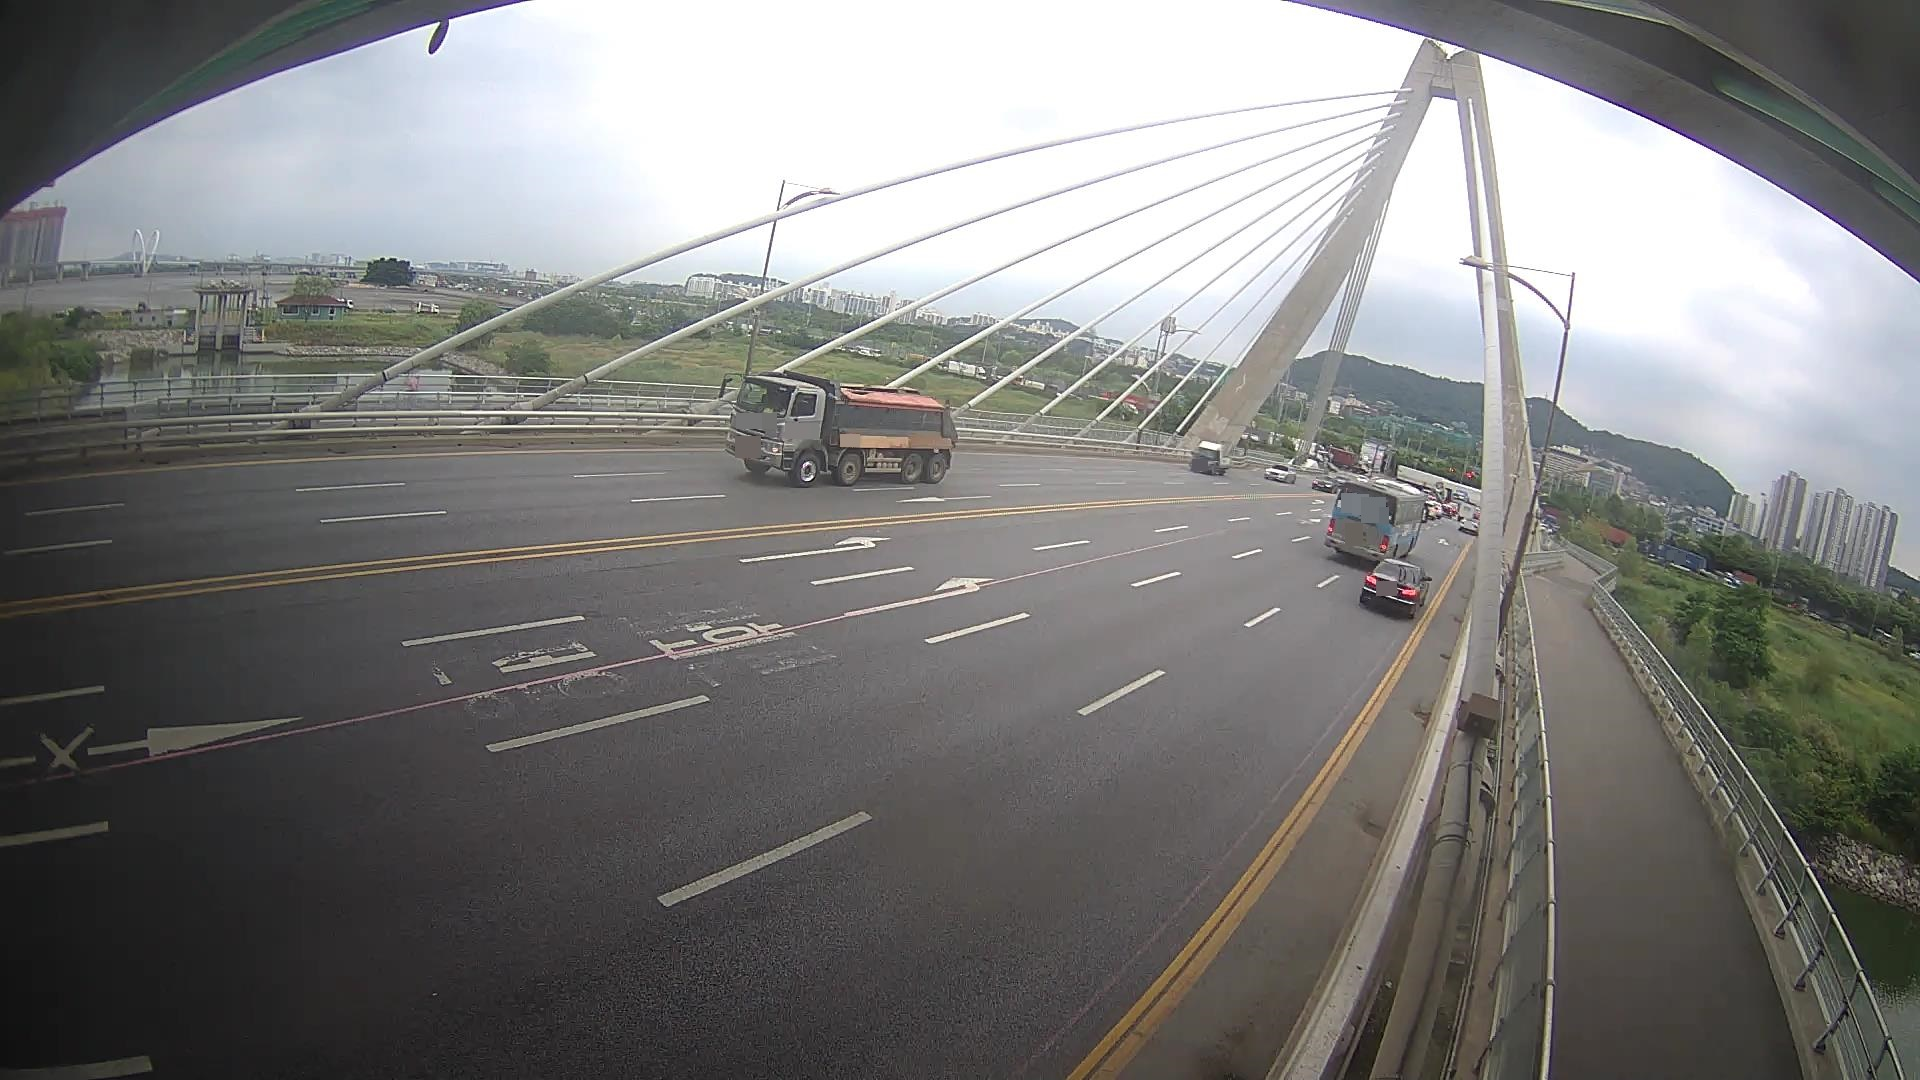정상차량: (719, 369, 957, 488)
